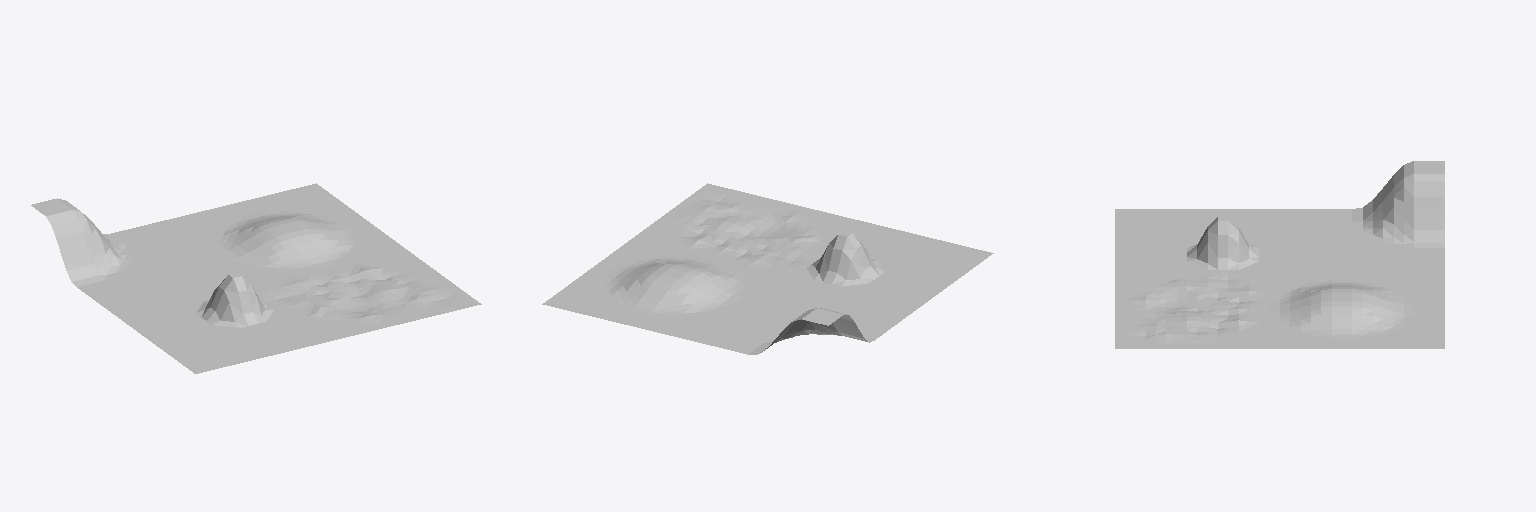
File: uneven-terrain.obj
3 renders of one model, left to right at view 1: azimuth 30°, elevation 25°; view 2: azimuth 150°, elevation 25°; view 3: azimuth 270°, elevation 25°, orthographic.
Parts seen in each view (by area): view 1: varied-terrain_Plane; view 2: varied-terrain_Plane; view 3: varied-terrain_Plane.
Boxes of the visible parts, box(x1,y1,x2,y2) form: varied-terrain_Plane: box(31, 183, 481, 373); varied-terrain_Plane: box(542, 183, 993, 354); varied-terrain_Plane: box(1115, 161, 1444, 348).
Bounding box in the file's own units: 32 × 5.44 × 32.